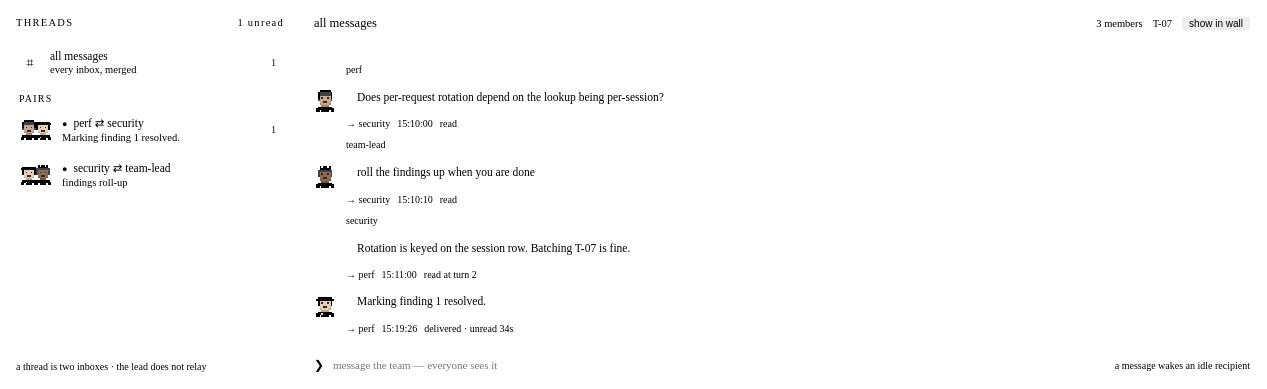
Test: Comms — shared state › sets the focused agent when a thread is opened, and keeps it off the lead
Step 1. Click the option with test id "thread-row" that starts with "security ⇄ team-lead" → x=95, y=175, box [19,162,171,188]
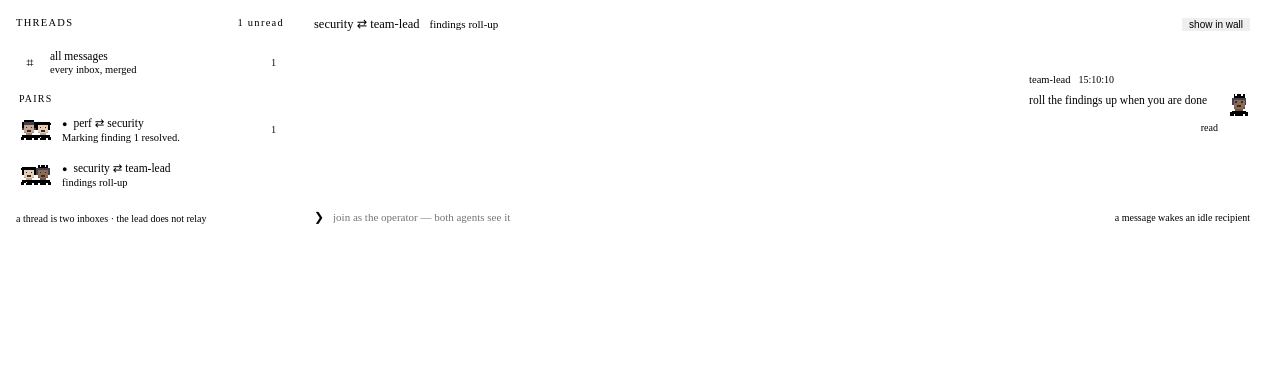
expect the 1st text "security ⇄ team-lead" is shown: met, box [314,16,420,32]
